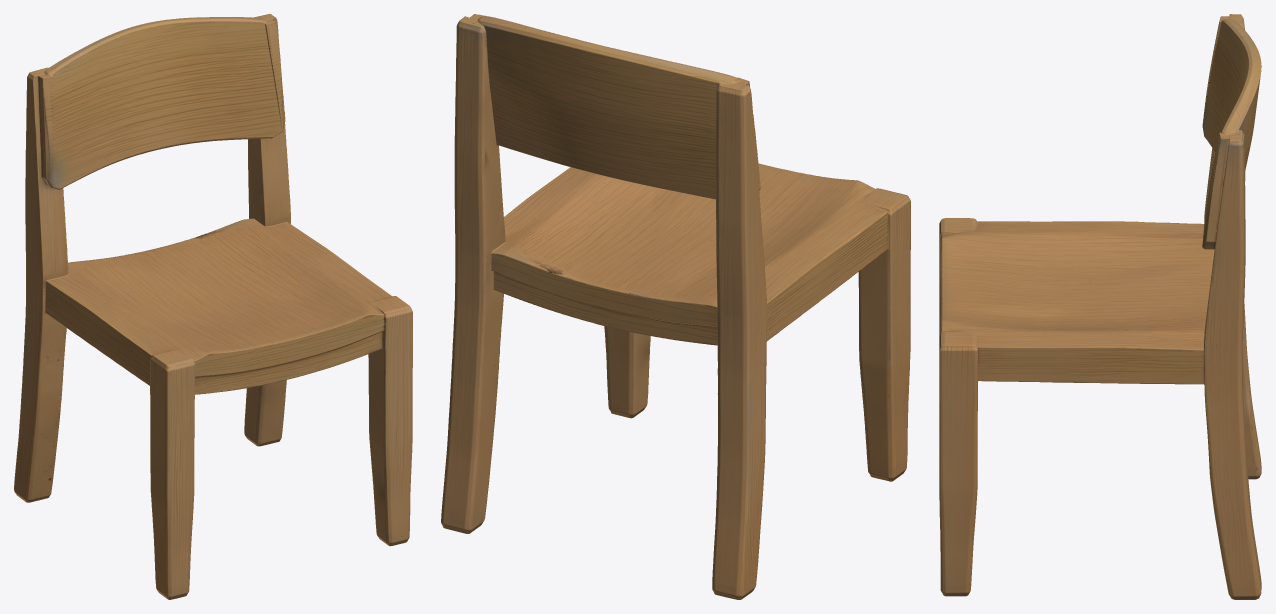
File: silla.glb
3 renders of one model, left to right at view 1: azimuth 30°, elevation 25°; view 2: azimuth 150°, elevation 25°; view 3: azimuth 270°, elevation 25°, orthographic. The views are drawn at different scales.
Parts seen in each view (by area): view 1: texture_pbr_v128; view 2: texture_pbr_v128; view 3: texture_pbr_v128.
Part boxes in pixels (left/top/right/bottom): texture_pbr_v128: left=14, top=14, right=412, bottom=599; texture_pbr_v128: left=441, top=14, right=910, bottom=599; texture_pbr_v128: left=939, top=14, right=1261, bottom=599.
Bounding box in the file's own units: 0.5583 × 0.9148 × 0.5676.
1 material, 1 textured.
